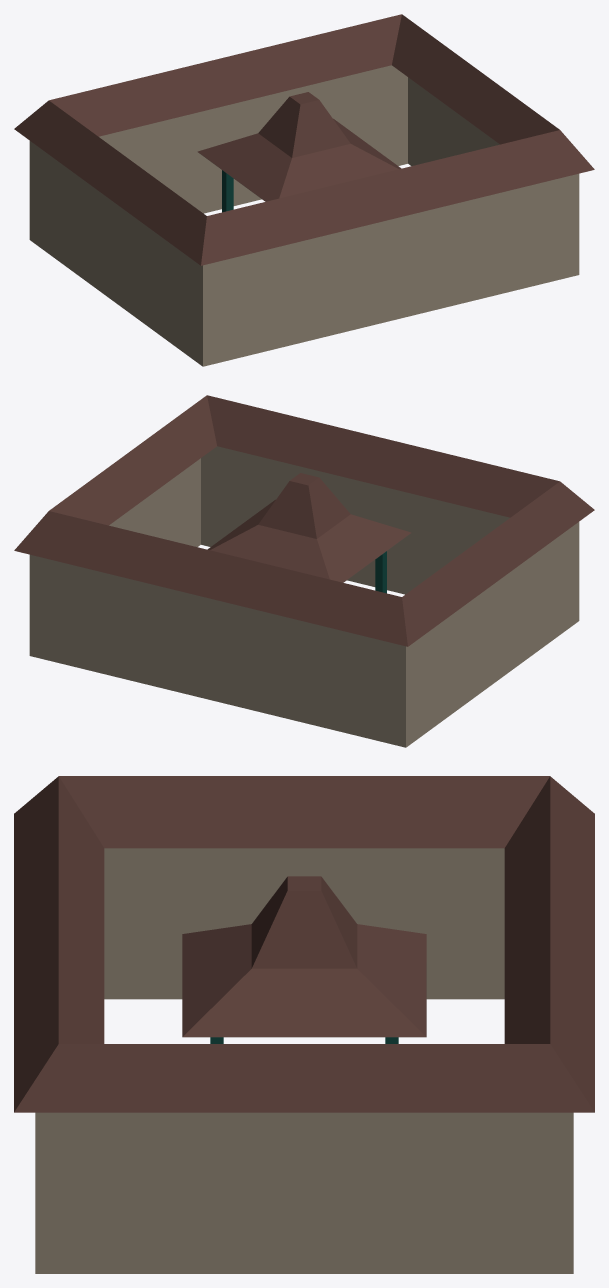
Rendered from Kraton Kilen.fbx.
The picture shows the model from 3 angles, top to bottom: view 1: azimuth 30°, elevation 25°; view 2: azimuth 150°, elevation 25°; view 3: azimuth 270°, elevation 25°; orthographic projection. The views are drawn at different scales.
Visible parts, largest first — view 1: Kraton Kilen; view 2: Kraton Kilen; view 3: Kraton Kilen.
Part boxes in pixels (left/top/right/bottom): Kraton Kilen: left=14, top=14, right=594, bottom=366; Kraton Kilen: left=14, top=395, right=594, bottom=747; Kraton Kilen: left=14, top=776, right=594, bottom=1273.
Size of the model in its own units: 686 by 265 by 564.
1 material, 1 textured.
